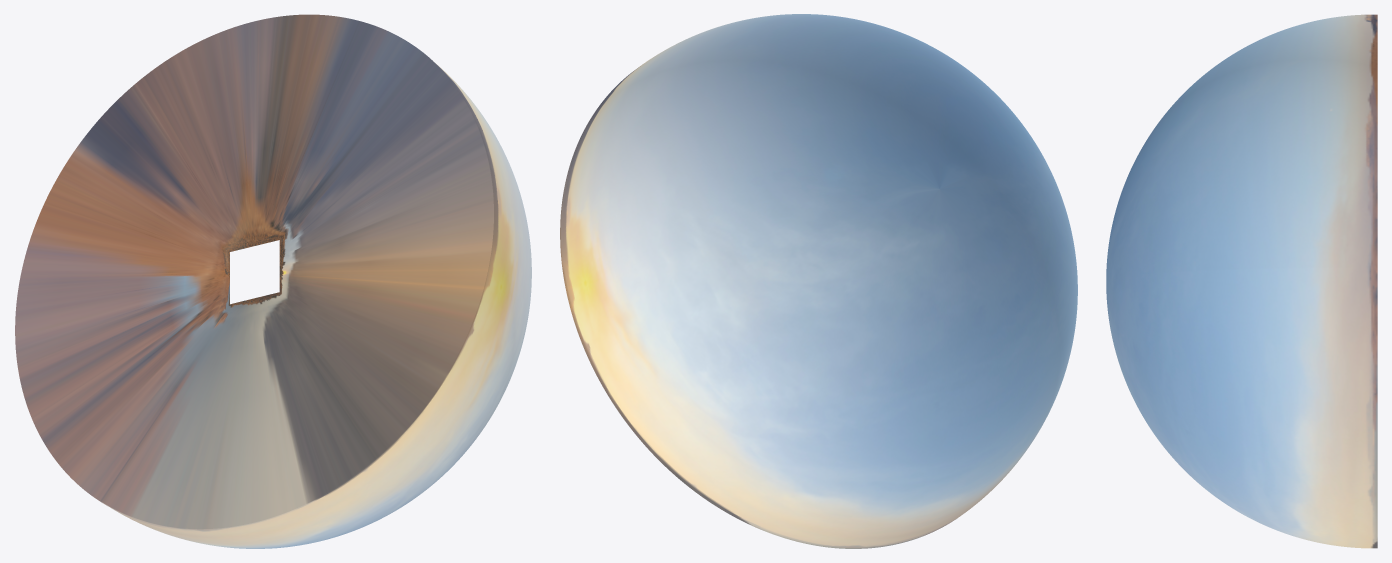
File: panorama.glb
3 views of the same model, side by side, from view 1: azimuth 30°, elevation 25°; view 2: azimuth 150°, elevation 25°; view 3: azimuth 270°, elevation 25° (orthographic). The views are drawn at different scales.
Parts seen in each view (by area): view 1: panorama; view 2: panorama; view 3: panorama.
Boxes of the visible parts, left/top/right/bottom form: panorama: left=15, top=14, right=531, bottom=548; panorama: left=560, top=14, right=1077, bottom=548; panorama: left=1106, top=14, right=1377, bottom=548.
Size of the model in its own units: 4810 by 4810 by 2442.
Materials: 1 (1 with a texture image).
